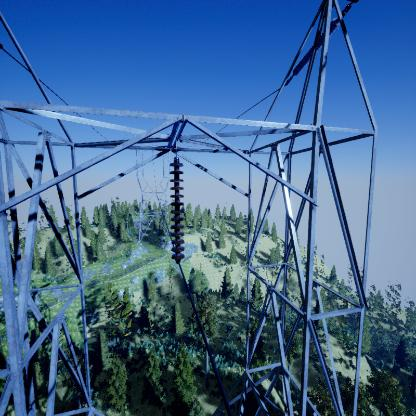insulator: (166, 159, 186, 265)
